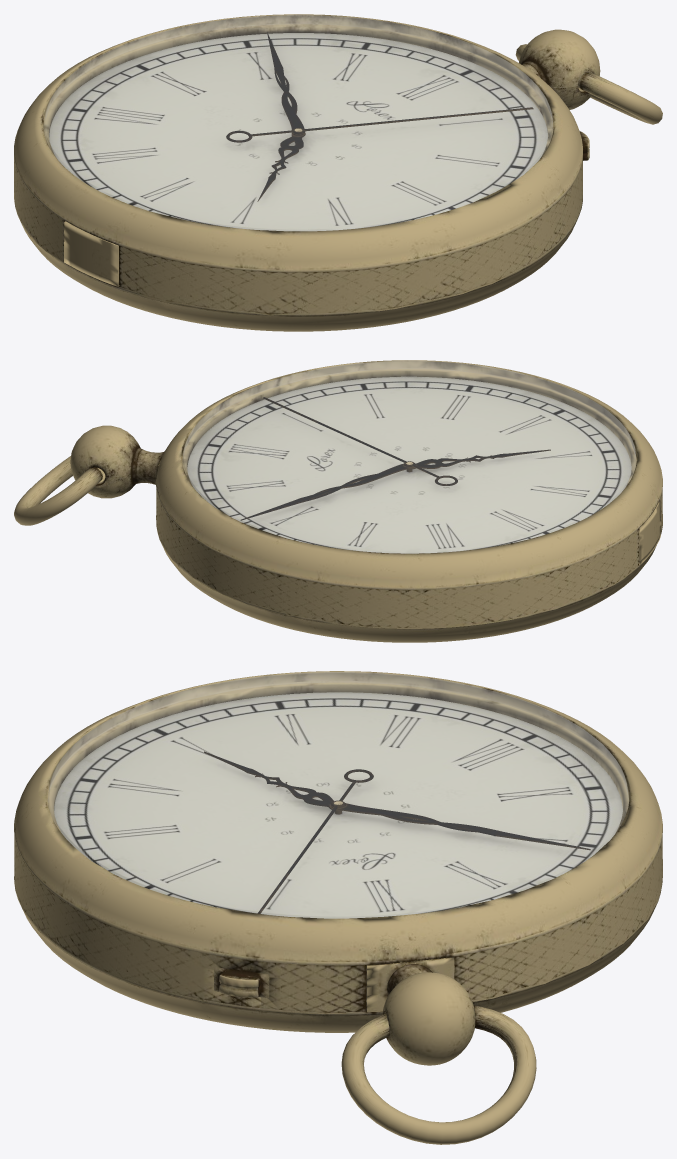
File: Pocket watch.glb
3 renders of one model, top to bottom at view 1: azimuth 30°, elevation 25°; view 2: azimuth 150°, elevation 25°; view 3: azimuth 270°, elevation 25°, orthographic. The views are drawn at different scales.
Visible parts, largest first — view 1: pocket_watch_frame, pocket_watch_ring, pocket_watch_hand_secondes, pocket_watch_hand_minutes, pocket_watch_hand_hours; view 2: pocket_watch_frame, pocket_watch_ring, pocket_watch_hand_minutes, pocket_watch_hand_hours, pocket_watch_hand_secondes; view 3: pocket_watch_frame, pocket_watch_ring, pocket_watch_hand_minutes, pocket_watch_button, pocket_watch_hand_hours, pocket_watch_hand_secondes.
Boxes of the visible parts, bbox=[...] form: pocket_watch_frame: bbox=[14, 14, 600, 331]; pocket_watch_ring: bbox=[515, 44, 662, 124]; pocket_watch_hand_secondes: bbox=[226, 107, 533, 142]; pocket_watch_hand_minutes: bbox=[267, 32, 304, 135]; pocket_watch_hand_hours: bbox=[257, 132, 305, 201]; pocket_watch_frame: bbox=[70, 360, 662, 642]; pocket_watch_ring: bbox=[14, 456, 102, 525]; pocket_watch_hand_minutes: bbox=[240, 463, 415, 520]; pocket_watch_hand_hours: bbox=[407, 449, 550, 469]; pocket_watch_hand_secondes: bbox=[263, 397, 457, 485]; pocket_watch_frame: bbox=[14, 671, 662, 1065]; pocket_watch_ring: bbox=[341, 1005, 536, 1144]; pocket_watch_hand_minutes: bbox=[331, 803, 590, 850]; pocket_watch_button: bbox=[214, 967, 269, 998]; pocket_watch_hand_hours: bbox=[204, 751, 342, 811]; pocket_watch_hand_secondes: bbox=[257, 769, 373, 913].
Bounding box in the file's own units: 0.1411 × 0.0295 × 0.1091.
Materials: 2 (1 with a texture image).
